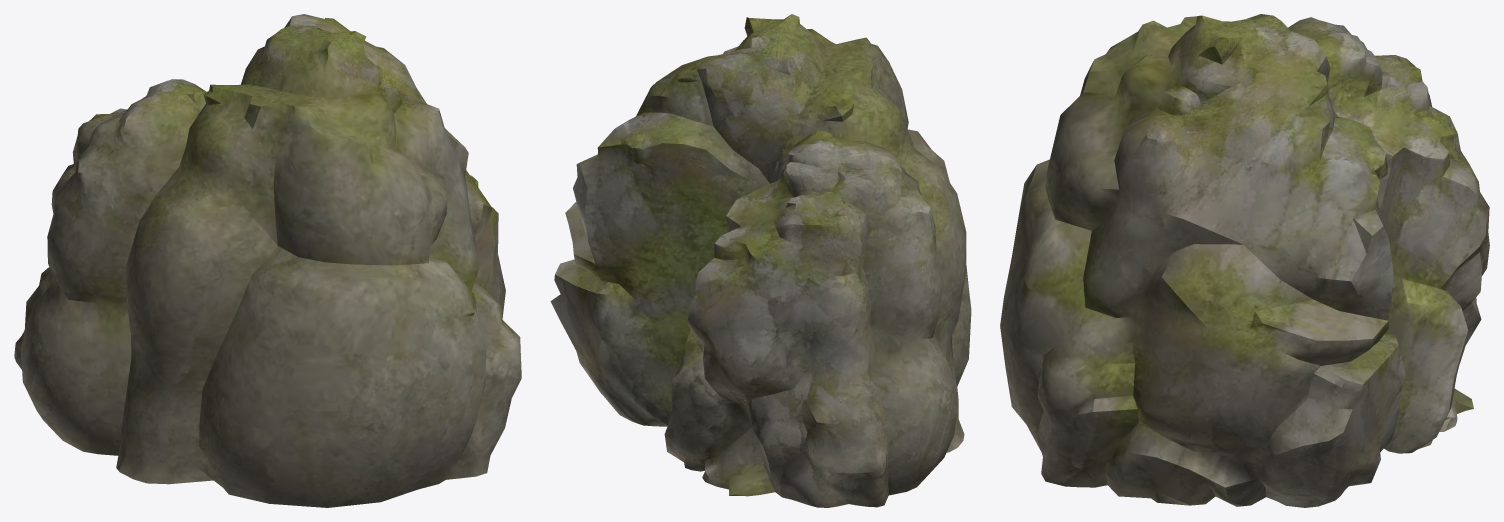
The model's file is boulders__variant__v2.glb.
3 renders of one model, left to right at view 1: azimuth 30°, elevation 25°; view 2: azimuth 150°, elevation 25°; view 3: azimuth 270°, elevation 25°, orthographic. The views are drawn at different scales.
Parts seen in each view (by area): view 1: tripo_node_a3455c36-9925-4313-b18e-930ef20de502; view 2: tripo_node_a3455c36-9925-4313-b18e-930ef20de502; view 3: tripo_node_a3455c36-9925-4313-b18e-930ef20de502.
Boxes of the visible parts, bbox=[...] form: tripo_node_a3455c36-9925-4313-b18e-930ef20de502: bbox=[14, 14, 521, 507]; tripo_node_a3455c36-9925-4313-b18e-930ef20de502: bbox=[550, 14, 971, 507]; tripo_node_a3455c36-9925-4313-b18e-930ef20de502: bbox=[1000, 14, 1489, 507].
Bounding box in the file's own units: 1 × 0.9053 × 0.9385.
Materials: 1 (1 with a texture image).
